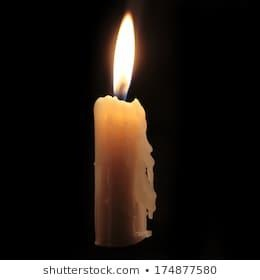fire: (110, 7, 137, 98)
